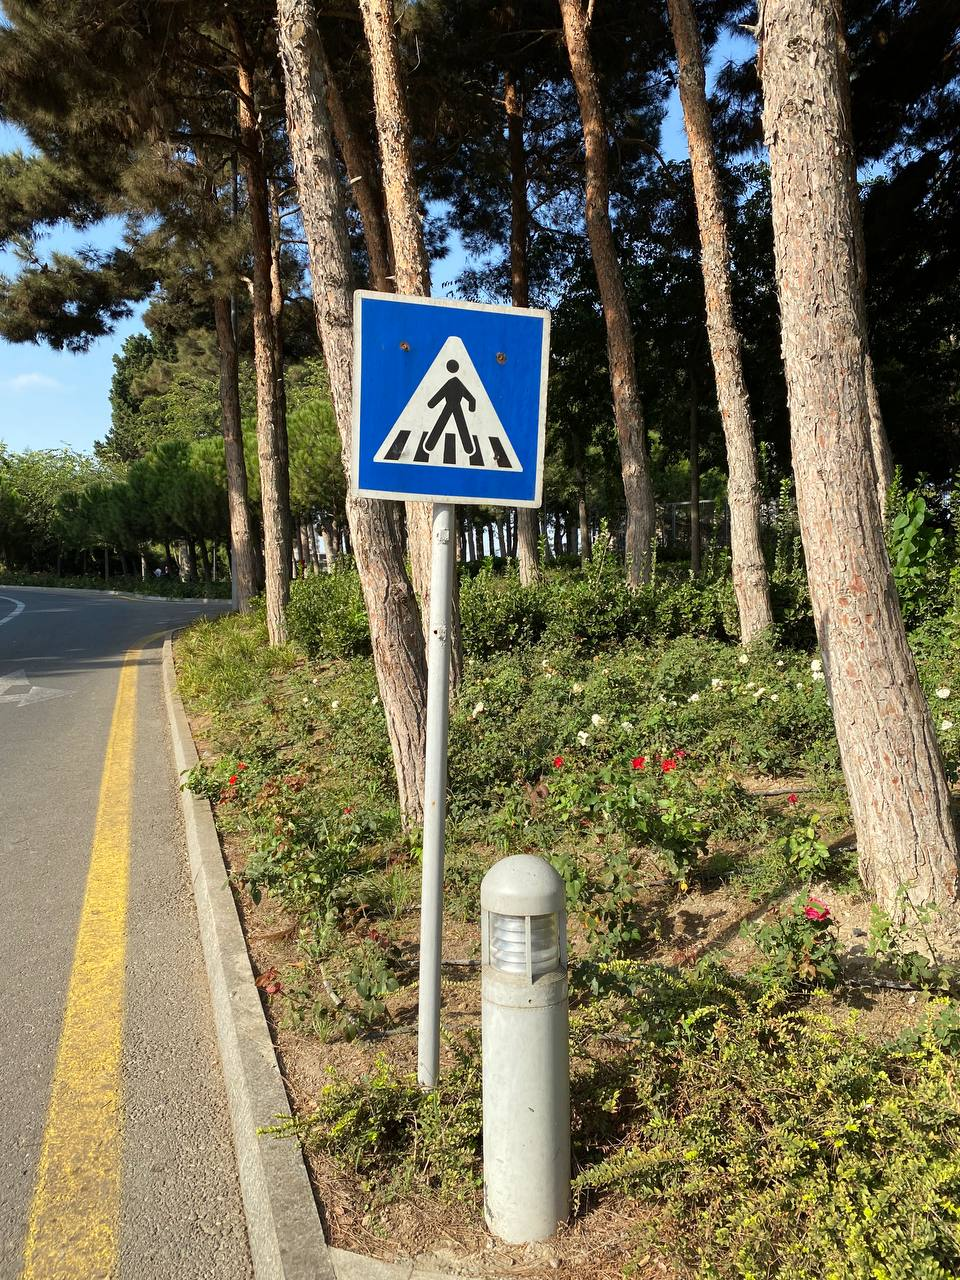Pedestrian Crossing: (350, 287, 549, 509)
